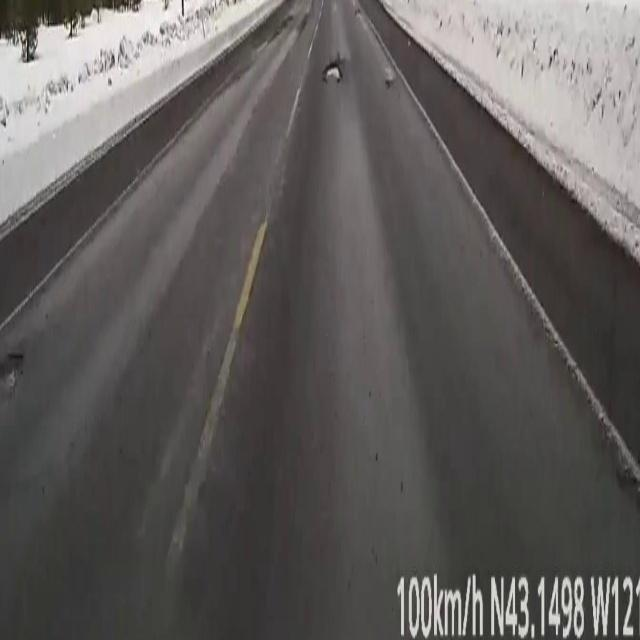pothole: (0, 349, 23, 401), (326, 64, 342, 80)
